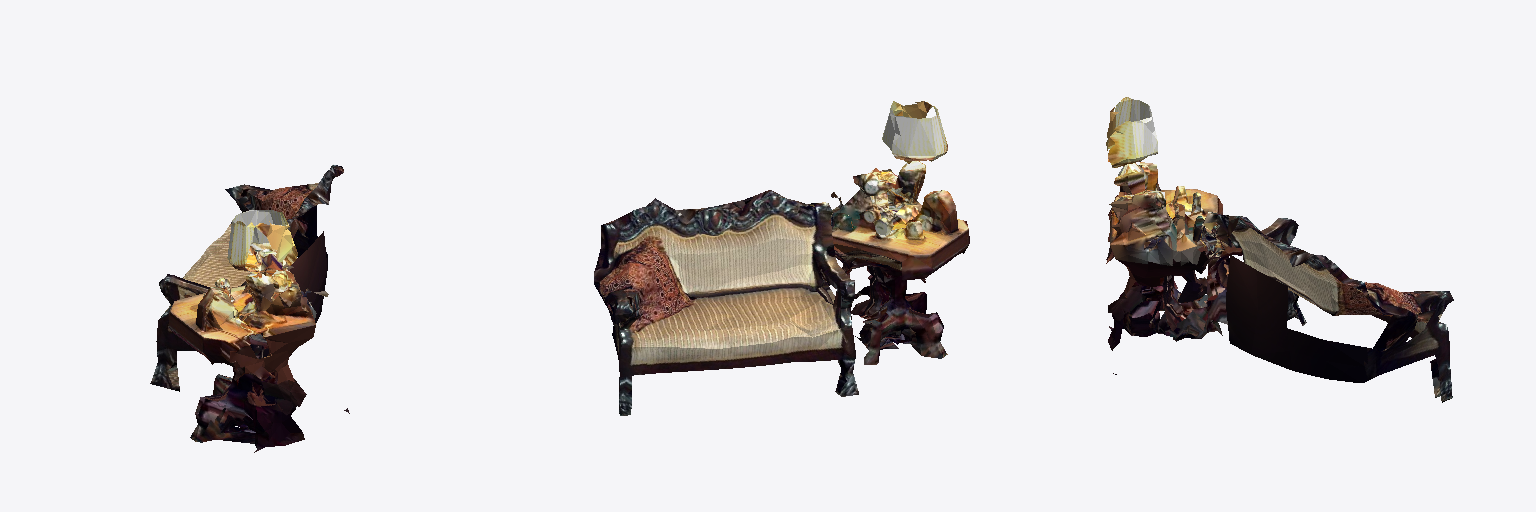
The picture shows the model from 3 angles: view 1: azimuth 30°, elevation 25°; view 2: azimuth 150°, elevation 25°; view 3: azimuth 270°, elevation 25°; orthographic projection.
Parts seen in each view (by area): view 1: LivingRoom_GEO_GRP_LivingRoom_Sofa_03; view 2: LivingRoom_GEO_GRP_LivingRoom_Sofa_03; view 3: LivingRoom_GEO_GRP_LivingRoom_Sofa_03.
Boxes of the visible parts, x1,y1,x2,y2 form: LivingRoom_GEO_GRP_LivingRoom_Sofa_03: [150, 164, 349, 452]; LivingRoom_GEO_GRP_LivingRoom_Sofa_03: [594, 101, 969, 415]; LivingRoom_GEO_GRP_LivingRoom_Sofa_03: [1106, 97, 1453, 402].
Size of the model in its own units: 1.72 by 1.47 by 2.04.
1 materials, 1 textured.